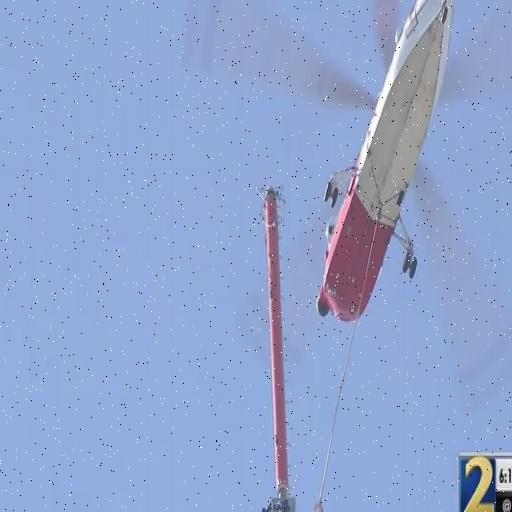helicopter: (244, 1, 413, 347)
